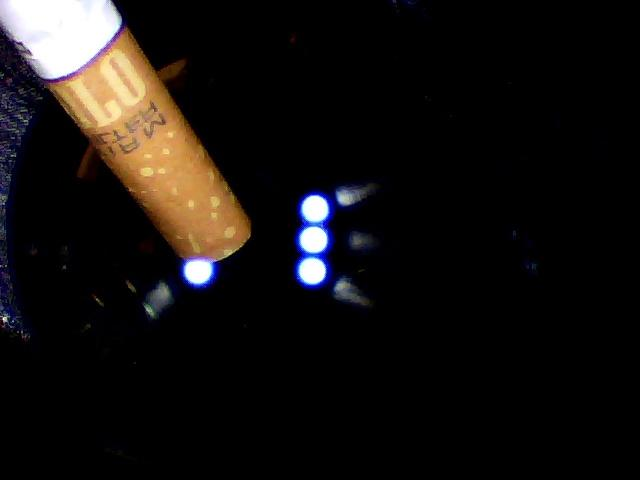megot: (1, 1, 258, 266)
